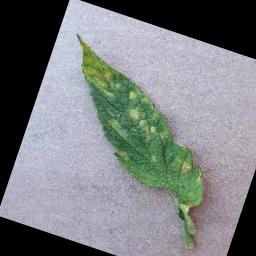Leaf_Mold: (36, 33, 239, 208)
